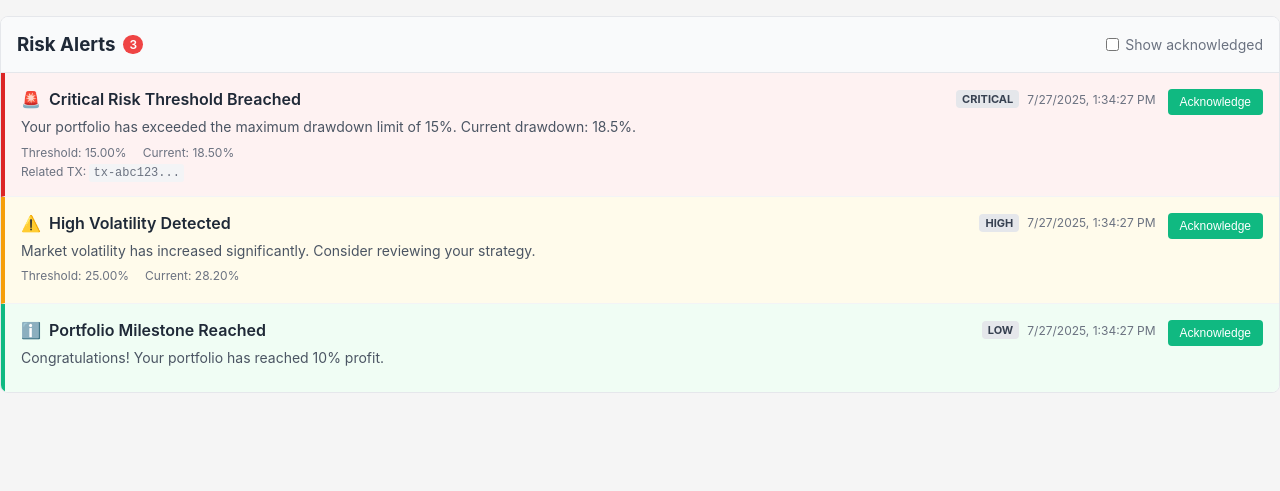
AlertPanel › shows acknowledged alerts when toggle is checked
Click the checkbox labelled "Show acknowledged": (1113, 44) [1106,38,1119,51]
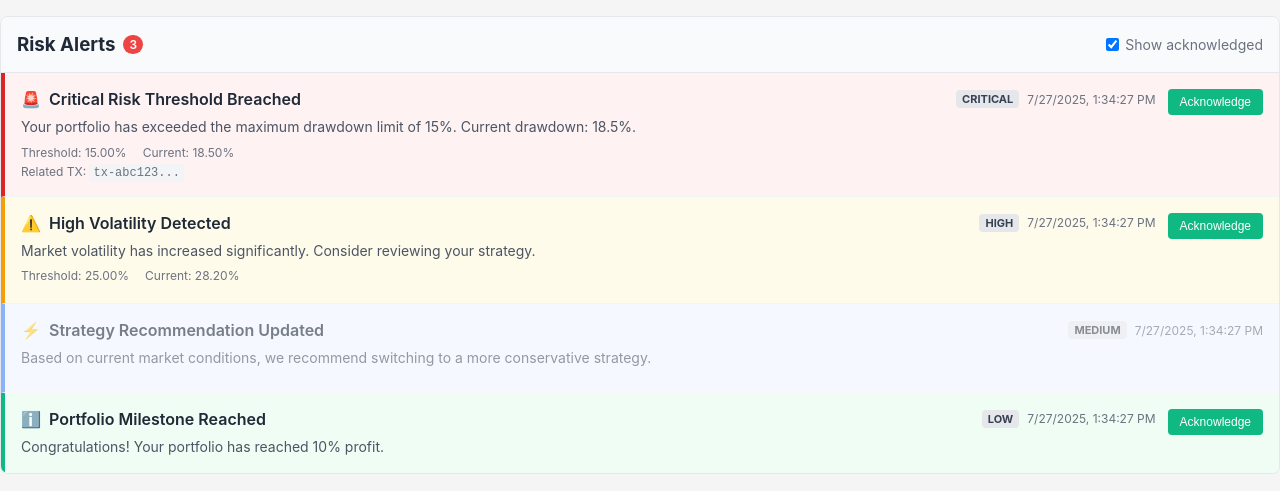
Check: the text "Strategy Recommendation Updated" is shown, box [49,320,324,340]
